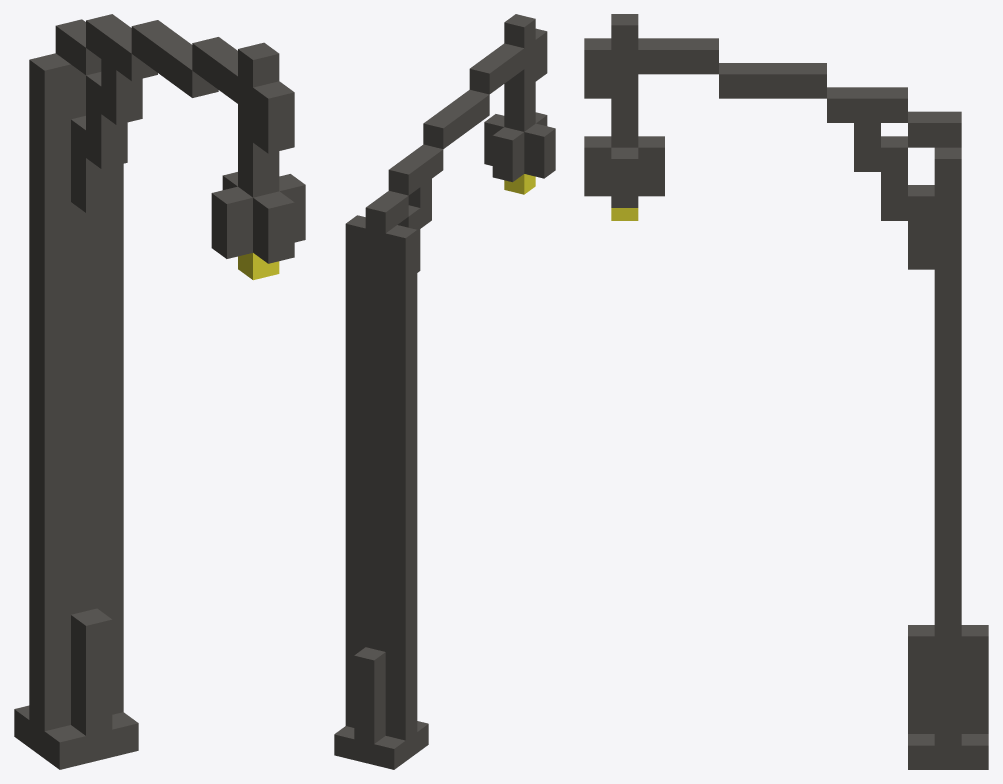
File: light-post.gltf
3 renders of one model, left to right at view 1: azimuth 30°, elevation 25°; view 2: azimuth 150°, elevation 25°; view 3: azimuth 270°, elevation 25°, orthographic. The views are drawn at different scales.
Parts seen in each view (by area): view 1: Layer.1, Layer.2; view 2: Layer.1, Layer.2; view 3: Layer.1.
Boxes of the visible parts, box(x1,y1,x2,y2) form: Layer.1: box(14, 14, 305, 769); Layer.2: box(238, 253, 279, 280); Layer.1: box(334, 14, 555, 769); Layer.2: box(504, 174, 535, 194); Layer.1: box(584, 14, 988, 769).
Bounding box in the file's own units: 3 × 30 × 15.
Materials: 1 (1 with a texture image).
